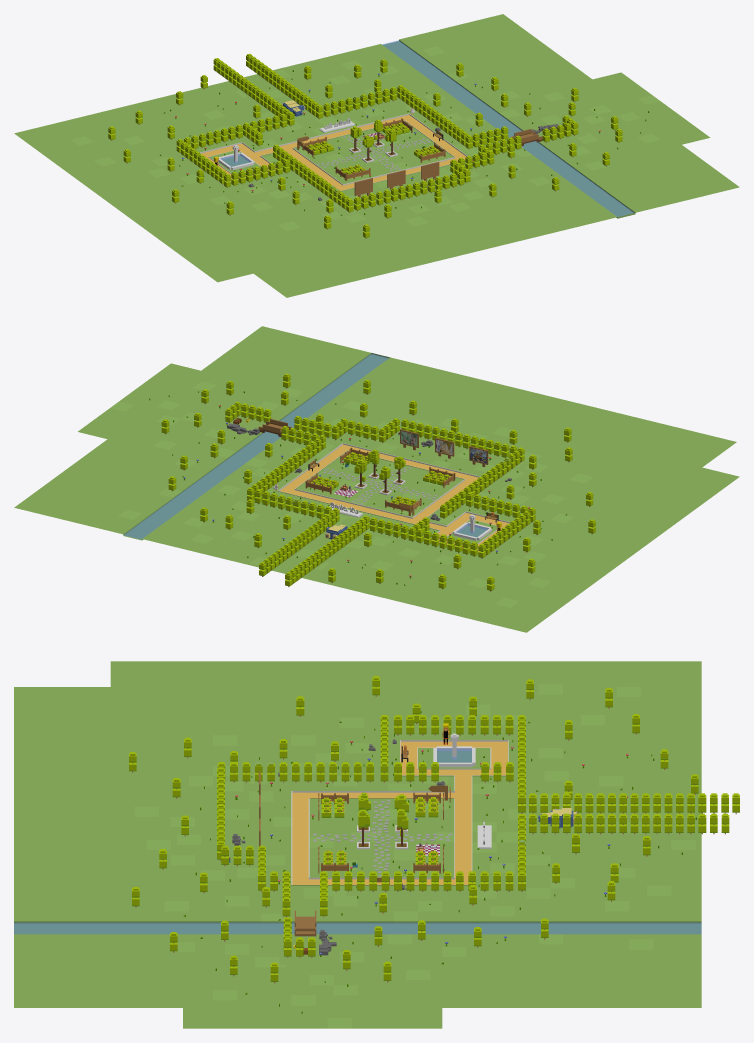
File: MyPortfolio.glb
The picture shows the model from 3 angles, top to bottom: view 1: azimuth 30°, elevation 25°; view 2: azimuth 150°, elevation 25°; view 3: azimuth 270°, elevation 25°; orthographic projection. The views are drawn at different scales.
Visible parts, largest first — view 1: Level; view 2: Level; view 3: Level.
Part boxes in pixels (x1,y1,x2,y2): Level: (14,14,739,297); Level: (14,326,739,632); Level: (14,661,739,1028).
Bounding box in the file's own units: 310 × 15.62 × 259.
Materials: 74 (3 with a texture image).
